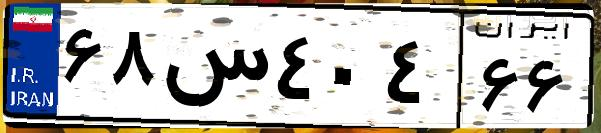0: (330, 28, 385, 110)
4: (270, 28, 330, 110), (385, 28, 445, 110)
6: (57, 26, 110, 100), (475, 38, 525, 113), (525, 38, 570, 115)
8: (110, 28, 158, 98)
س: (158, 20, 270, 120)
